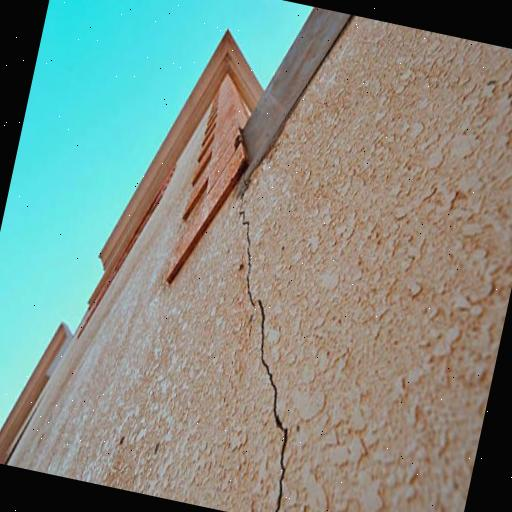spalling: (234, 196, 297, 512)
